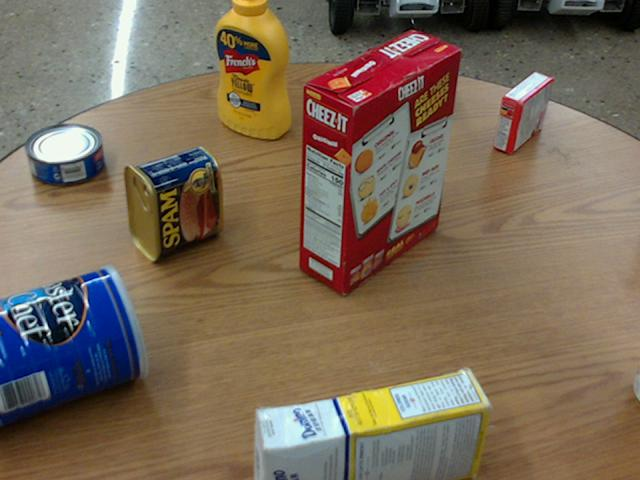cracker_box: (299, 30, 458, 293)
gelatin_box: (494, 73, 554, 154)
master_chef_can: (0, 264, 147, 424)
mug: (361, 33, 439, 109)
mustard_bottle: (213, 0, 288, 138)
potted_meat_can: (121, 144, 220, 259)
sugar_box: (249, 368, 490, 479)
tomato_soup_can: (632, 358, 639, 401)
tuna_fish_can: (26, 123, 103, 183)
